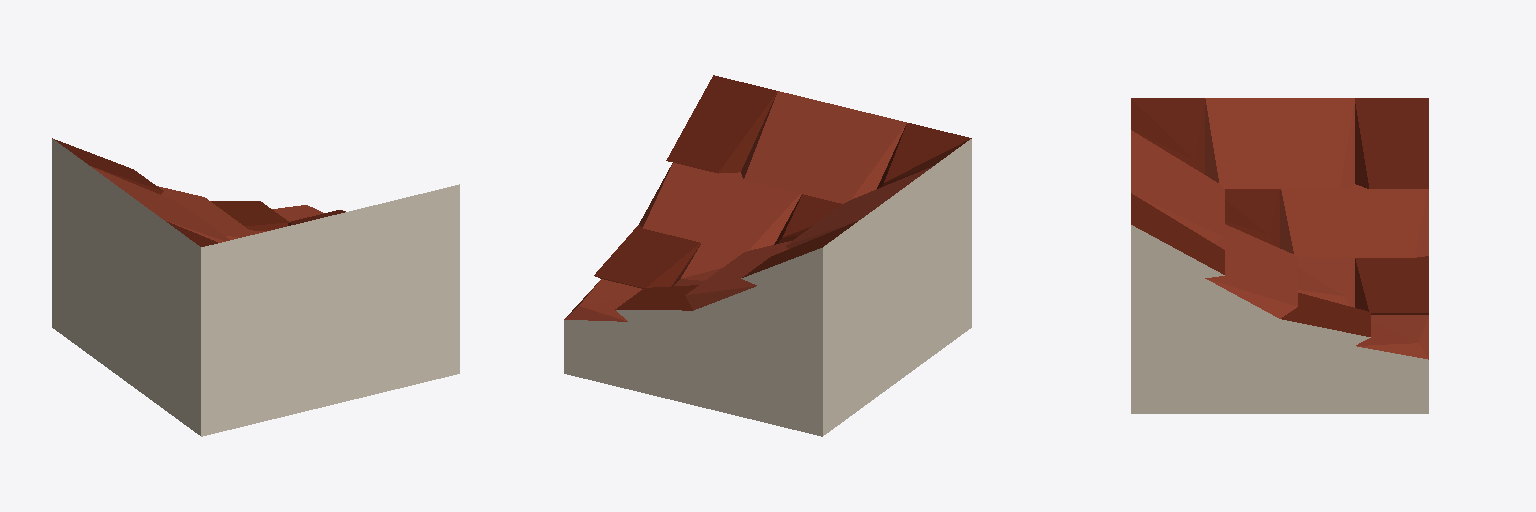
Rendered from Roof_Concave_Corner_Inner.obj.
The picture shows the model from 3 angles: view 1: azimuth 30°, elevation 25°; view 2: azimuth 150°, elevation 25°; view 3: azimuth 270°, elevation 25°; orthographic projection.
Visible parts, largest first — view 1: object1; view 2: object1; view 3: object1.
Boxes of the visible parts, <box> form: object1: <box>52,138,459,436</box>; object1: <box>564,75,971,436</box>; object1: <box>1131,98,1428,413</box>.
Size of the model in its own units: 1 by 0.7 by 1.